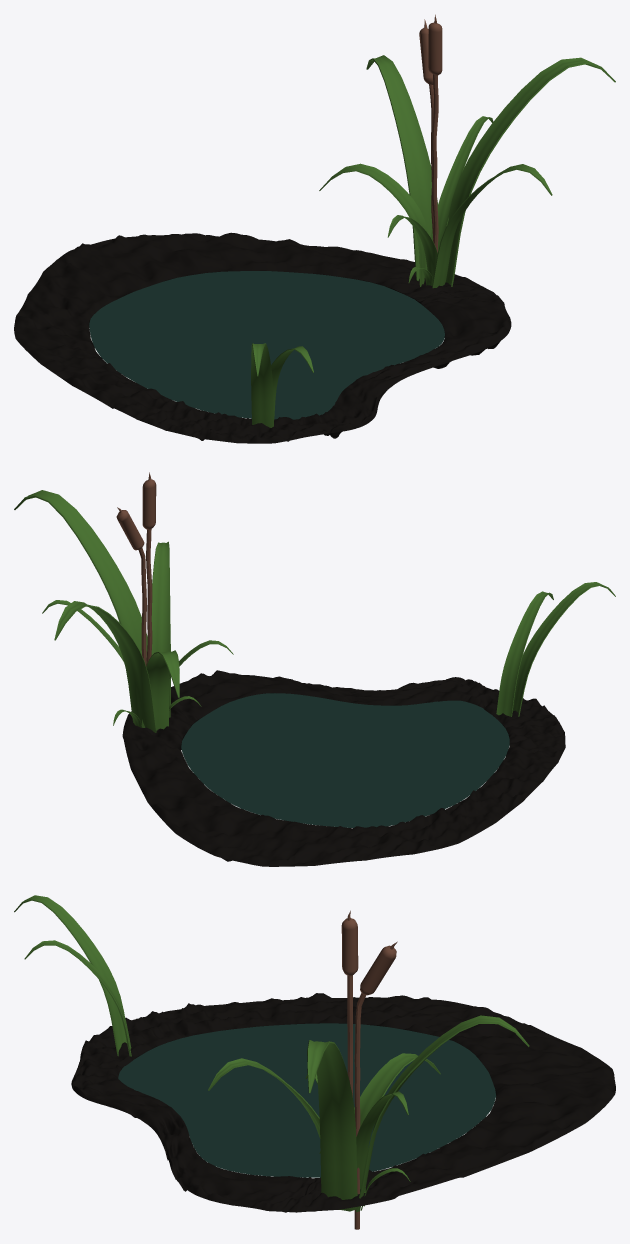
The model's file is marre.fbx.
3 views of the same model, one above another, from view 1: azimuth 30°, elevation 25°; view 2: azimuth 150°, elevation 25°; view 3: azimuth 270°, elevation 25° (orthographic). The views are drawn at different scales.
Visible parts, largest first — view 1: polySurface4, polySurface5, pPlane14, pPlane15, pPlane12, pCylinder2, pPlane16, pPlane20, pPlane18, pCylinder5, pPlane17, pPlane13; view 2: polySurface5, polySurface4, pPlane15, pPlane14, pPlane16, pPlane13, pPlane20, pPlane12, pCylinder2, pCylinder5; view 3: polySurface4, polySurface5, pPlane15, pPlane12, pCylinder5, pPlane14, pCylinder2, pPlane20, pPlane18, pPlane13, pPlane16.
Part boxes in pixels (<box>): polySurface4: <box>14,232,511,443</box>; polySurface5: <box>89,271,444,419</box>; pPlane14: <box>366,55,437,280</box>; pPlane15: <box>446,57,615,286</box>; pPlane12: <box>251,343,273,427</box>; pCylinder2: <box>428,14,442,252</box>; pPlane16: <box>432,164,552,288</box>; pPlane20: <box>319,163,427,286</box>; pPlane18: <box>426,116,493,270</box>; pCylinder5: <box>419,19,437,240</box>; pPlane17: <box>387,215,437,278</box>; pPlane13: <box>271,346,313,419</box>; polySurface5: <box>181,693,509,827</box>; polySurface4: <box>122,670,565,866</box>; pPlane15: <box>14,490,147,663</box>; pPlane14: <box>54,601,156,732</box>; pPlane16: <box>151,541,170,717</box>; pPlane13: <box>496,591,553,716</box>; pPlane20: <box>142,650,179,730</box>; pPlane12: <box>512,582,615,716</box>; pCylinder2: <box>142,472,156,665</box>; pCylinder5: <box>116,507,146,666</box>; polySurface4: <box>71,993,615,1212</box>; polySurface5: <box>118,1023,496,1177</box>; pPlane15: <box>307,1040,357,1211</box>; pPlane12: <box>14,895,126,1056</box>; pCylinder5: <box>354,941,397,1229</box>; pPlane14: <box>355,1015,529,1211</box>; pCylinder2: <box>341,910,358,1097</box>; pPlane20: <box>354,1053,440,1206</box>; pPlane18: <box>356,1091,408,1189</box>; pPlane13: <box>24,940,131,1056</box>; pPlane16: <box>208,1058,320,1138</box>.
Bounding box in the file's own units: 23.04 × 12.09 × 20.8.
